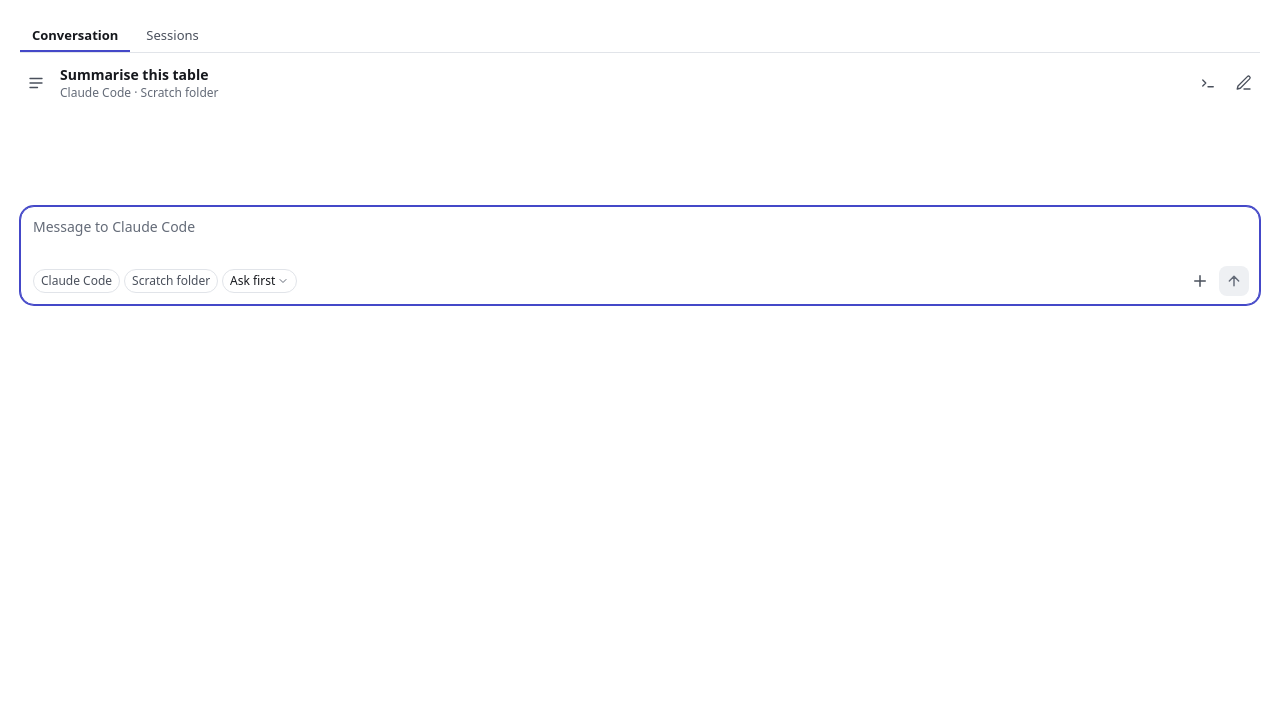
Test: T598 the header and the conversation drawer › closes on Escape and gives the focus back to the list button
Click the button named "Show conversations" at (36, 83), box [20,67,52,99]
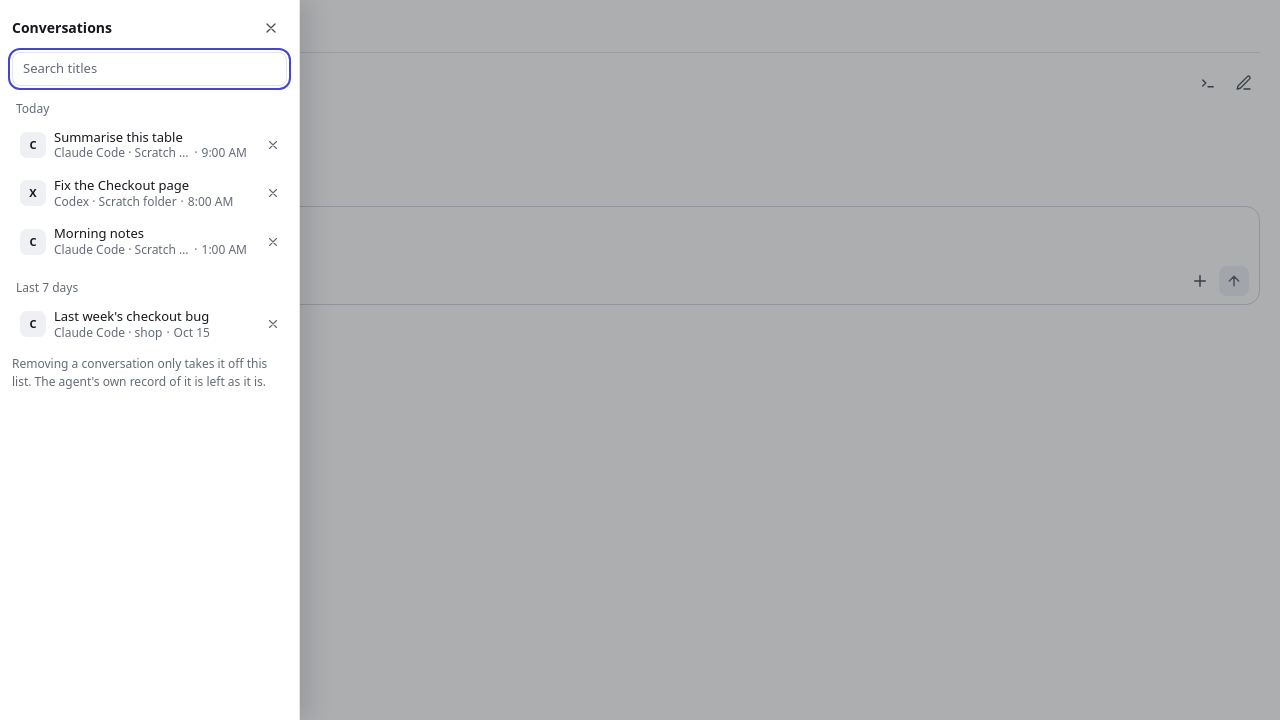
Press Escape in the search field labelled "Search titles", box [12,52,287,86]
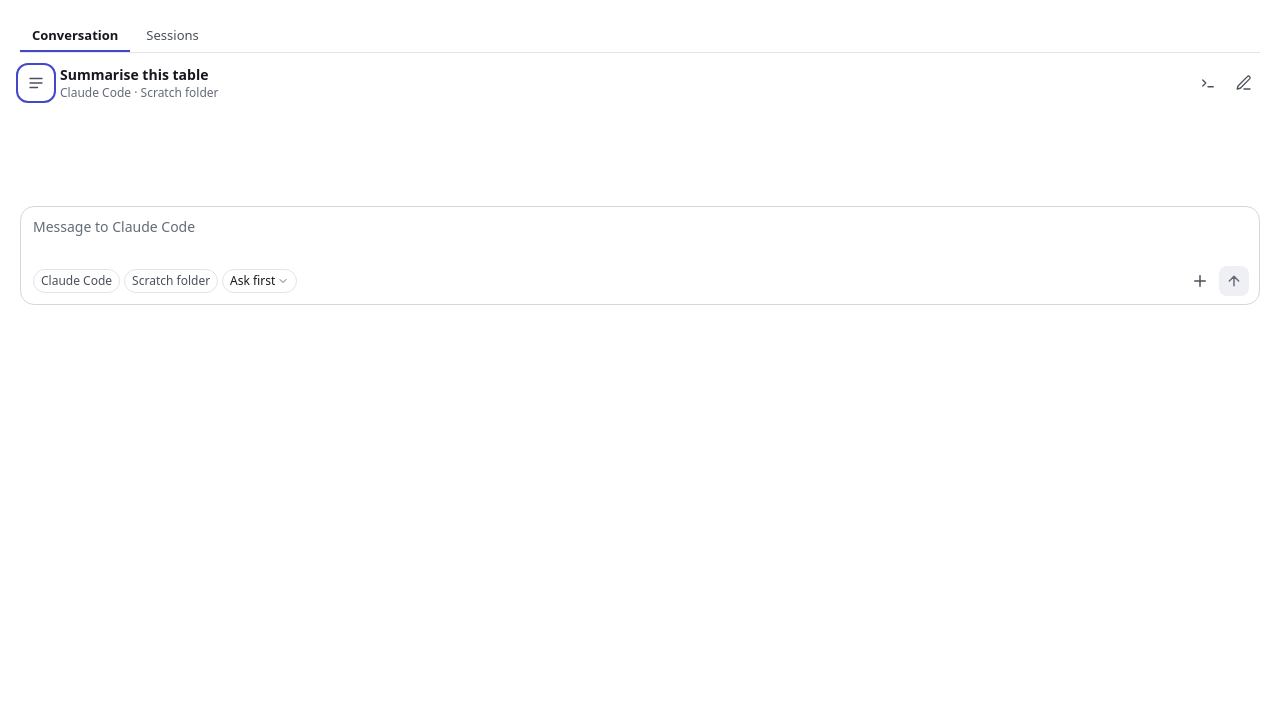
Expected: the dialog is gone
Expected: the button named "Show conversations" is collapsed, [20,67,52,99]
